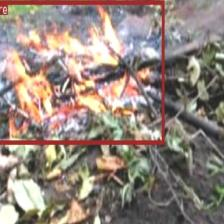fire: (0, 0, 164, 143)
